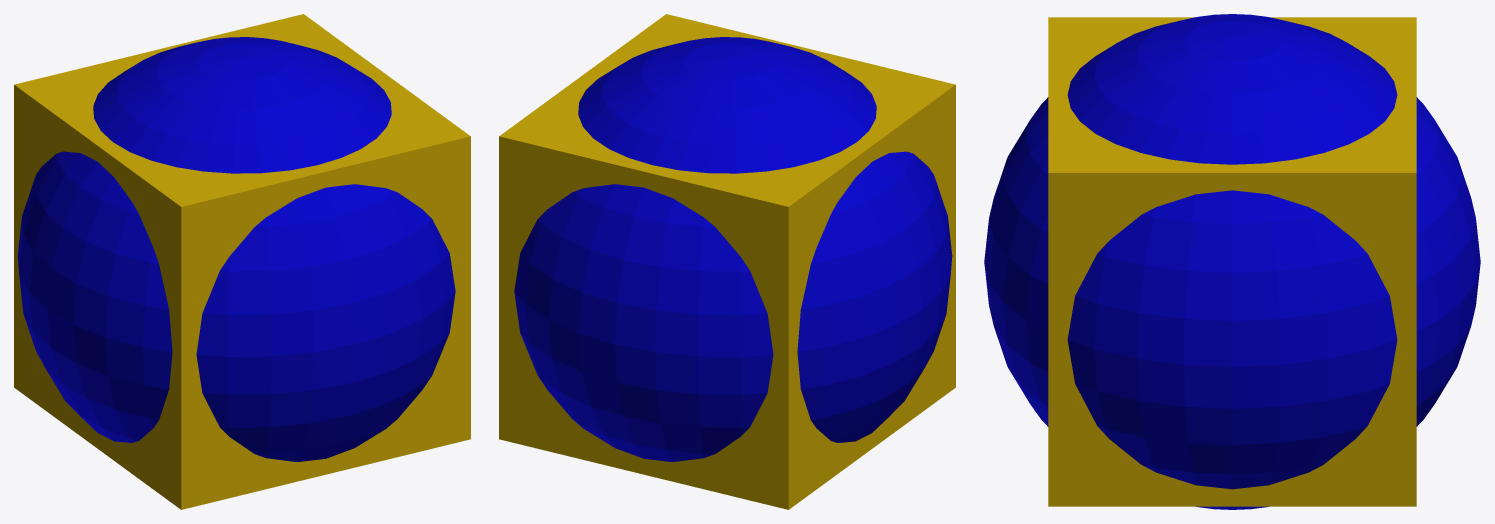
File: multimat.obj
3 renders of one model, left to right at view 1: azimuth 30°, elevation 25°; view 2: azimuth 150°, elevation 25°; view 3: azimuth 270°, elevation 25°, orthographic. The views are drawn at different scales.
Visible parts, largest first — view 1: Sphere, Cube; view 2: Sphere, Cube; view 3: Sphere, Cube.
Boxes of the visible parts, box(x1,y1,x2,y2) form: Sphere: box(17, 37, 455, 462); Cube: box(14, 14, 470, 509); Sphere: box(514, 37, 952, 462); Cube: box(499, 14, 955, 509); Sphere: box(984, 14, 1480, 509); Cube: box(1048, 17, 1416, 506).
Bounding box in the file's own units: 2.69 × 2.69 × 2.69.
